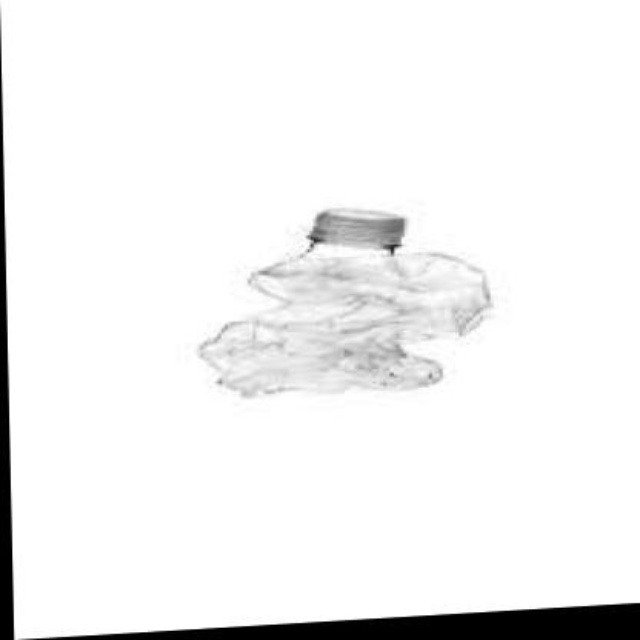trash: (198, 209, 489, 395)
